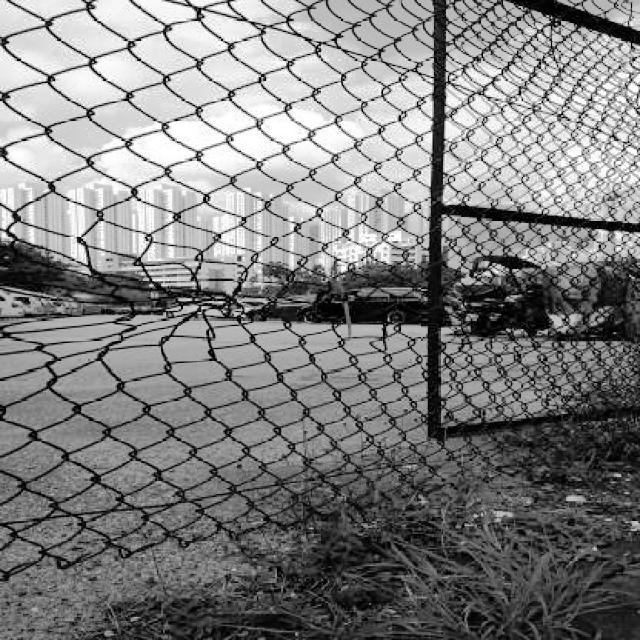anomaly-fence: (0, 449, 640, 596), (0, 221, 380, 398)
